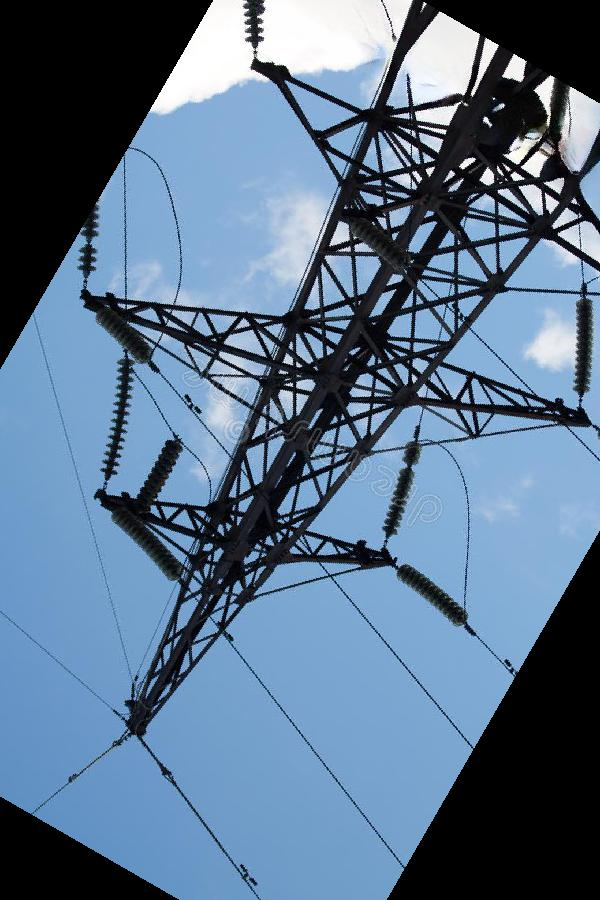insulator: (106, 501, 187, 584), (391, 560, 473, 629), (97, 356, 137, 479), (379, 435, 425, 539), (344, 213, 415, 276), (133, 435, 186, 513), (94, 303, 156, 366), (568, 294, 597, 397), (74, 196, 108, 277), (238, 1, 267, 53)
insulator_stringdrop: (77, 225, 102, 256), (397, 454, 420, 480)
